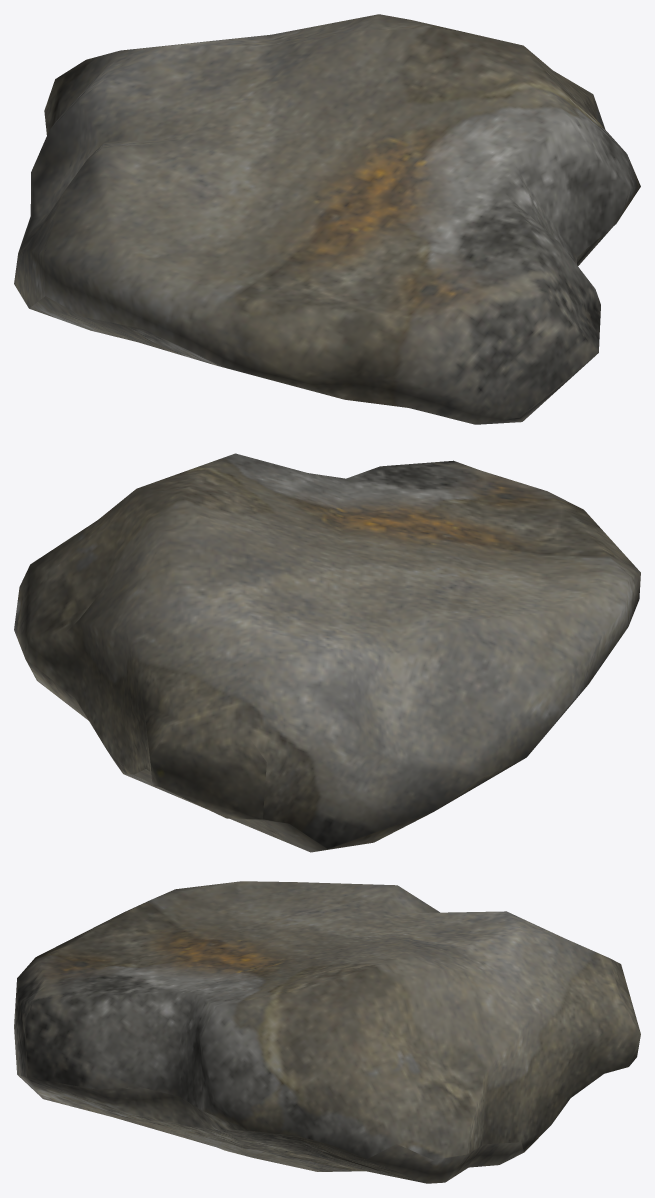
The model's file is rock 3.obj.
The picture shows the model from 3 angles, top to bottom: view 1: azimuth 30°, elevation 25°; view 2: azimuth 150°, elevation 25°; view 3: azimuth 270°, elevation 25°; orthographic projection. The views are drawn at different scales.
Visible parts, largest first — view 1: Pavementblock.020; view 2: Pavementblock.020; view 3: Pavementblock.020.
Boxes of the visible parts, x1,y1,x2,y2 form: Pavementblock.020: (14,14,640,424); Pavementblock.020: (14,453,640,852); Pavementblock.020: (14,881,640,1183).
Bounding box in the file's own units: 3.14 × 1.53 × 3.58.
